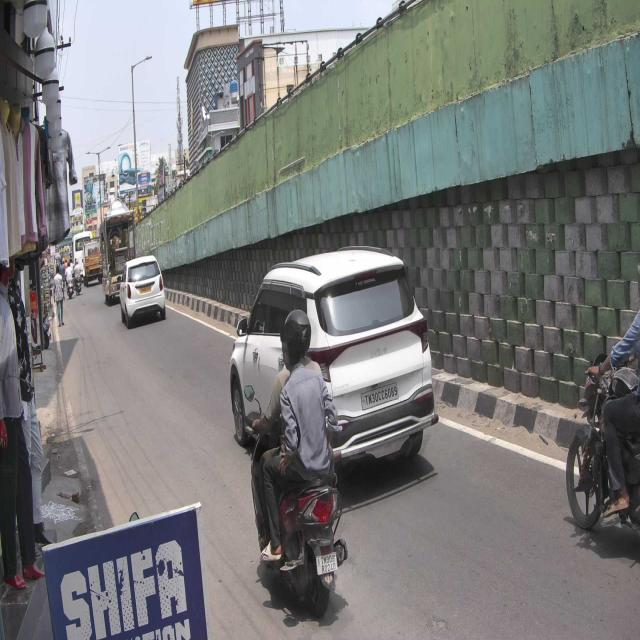double_rider: (244, 304, 352, 624)
